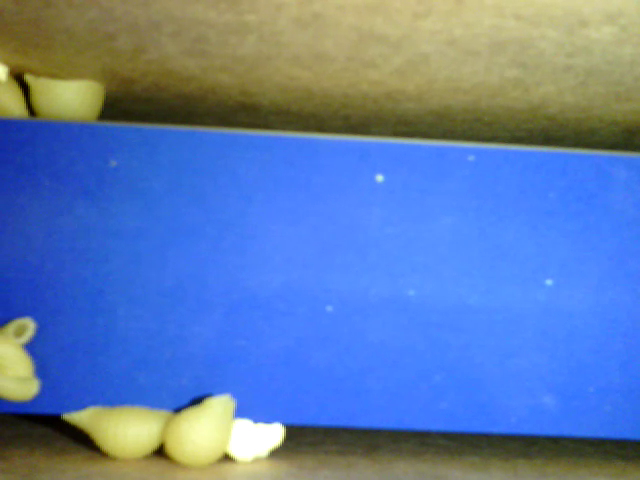elbow: (3, 316, 36, 407)
shell: (164, 386, 240, 469), (61, 409, 180, 460), (21, 72, 108, 126)
